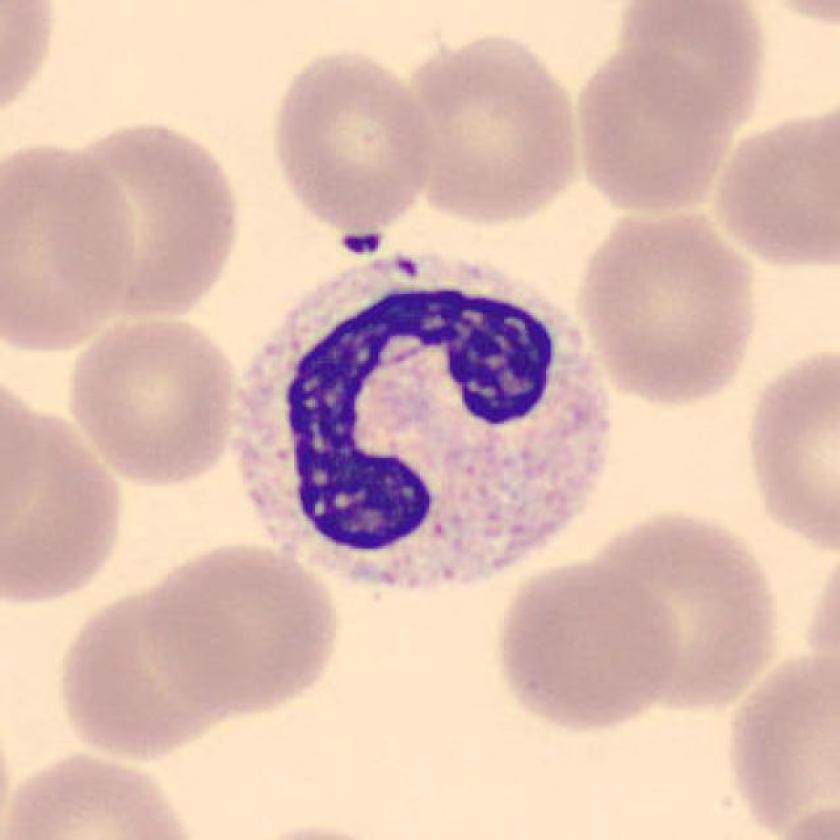neutrophil: (232, 258, 607, 589)
